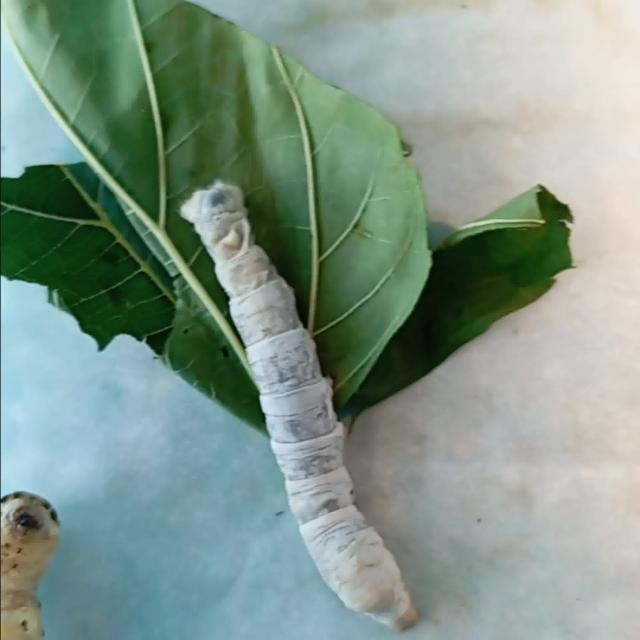Grasserie: (157, 159, 477, 640)
